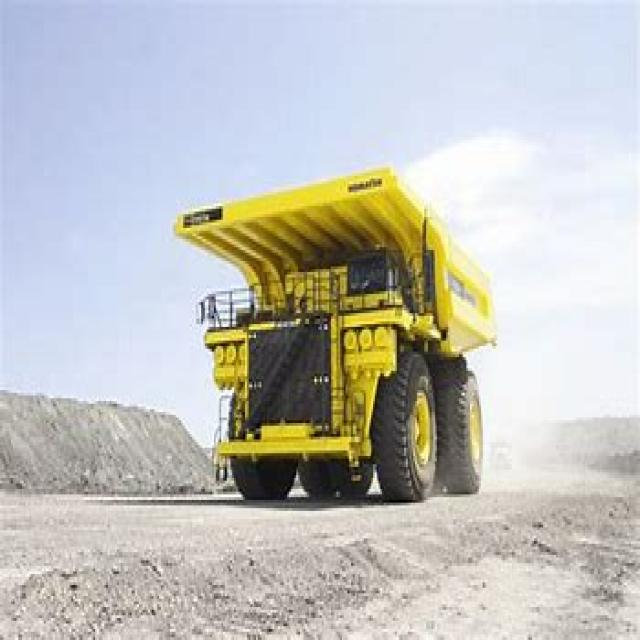dump_truck: (150, 154, 503, 497)
